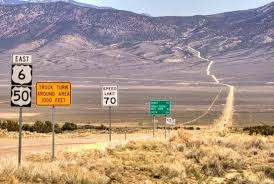speedLimit70: (100, 84, 119, 108)
